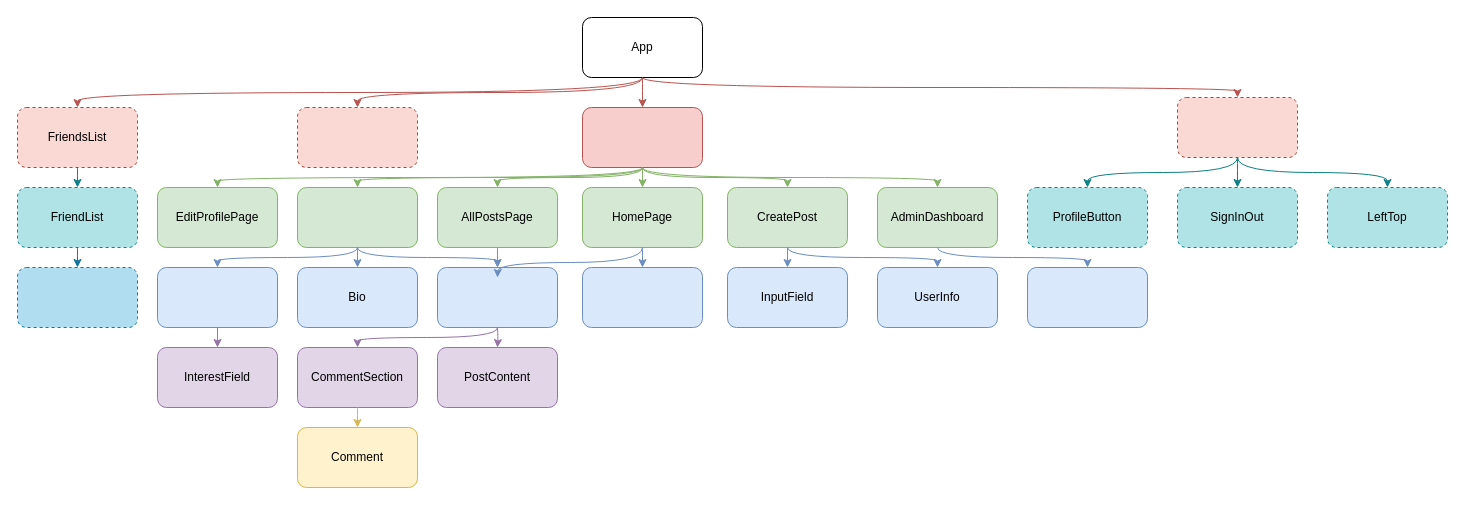
Some shapes in this 1465 by 505 pixel diagram are drawn without their labels. Here are the shapes that lost their labels. From the top down, the centre of each, then its label:
At point 357,137: "Footer".
At point 642,137: "Main".
At point 1237,127: "TopBar".
At point 357,217: "ProfilePage".
At point 77,297: "FriendListItem".
At point 217,297: "Interests".
At point 497,297: "Post".
At point 642,297: "UpdatesBoard".
At point 1087,297: "Crea".
